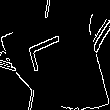L_E: (32, 32, 78, 78)
